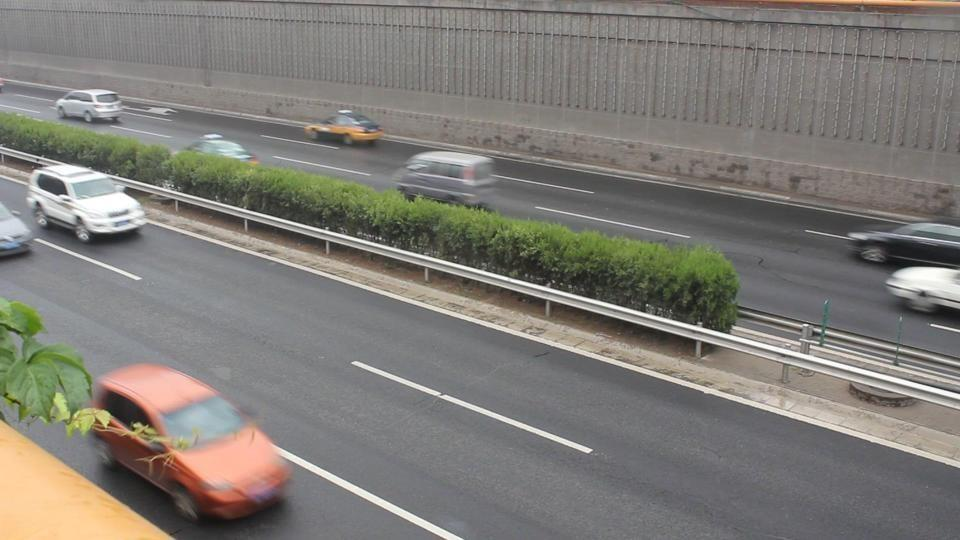car: (83, 361, 295, 524), (25, 163, 148, 243), (395, 150, 499, 210), (846, 221, 960, 267), (884, 265, 960, 313), (304, 109, 384, 148), (169, 134, 260, 165), (55, 89, 122, 123), (0, 201, 35, 258)
